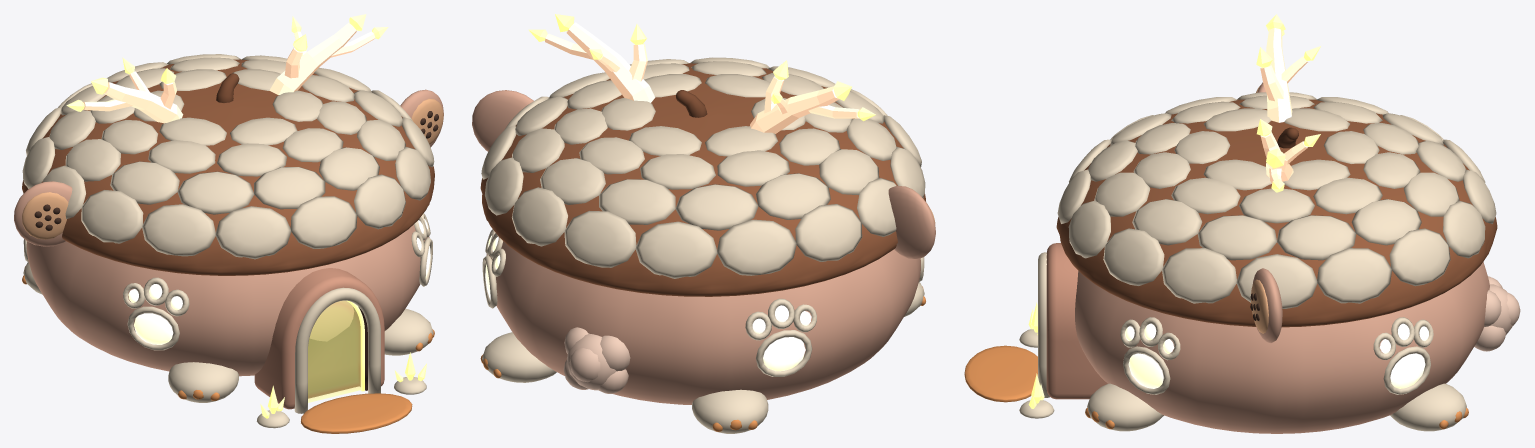
The model's file is house_04_0406.fbx.
The picture shows the model from 3 angles, left to right: view 1: azimuth 30°, elevation 25°; view 2: azimuth 150°, elevation 25°; view 3: azimuth 270°, elevation 25°; orthographic projection. The views are drawn at different scales.
Visible parts, largest first — view 1: House_AcornCap_Scales, House_Body, House_AcornCap, House_Entrance, House_CrystalAntlers, House_GlowMembrane, House_Paws, House_EntranceStep, House_DoorRim, House_PawWindows_Rim, House_EarVent_Inner, House_EarVent_Shell (+7 smaller); view 2: House_AcornCap_Scales, House_Body, House_AcornCap, House_CrystalAntlers, House_Paws, House_EarVent_Shell, House_Tail, House_PawWindows_Rim, House_PawWindows_Glow, House_AntlerGlowTips, House_CapStem; view 3: House_AcornCap_Scales, House_Body, House_AcornCap, House_Entrance, House_Paws, House_PawWindows_Rim, House_EntranceStep, House_CrystalAntlers, House_PawWindows_Glow, House_Tail, House_AntlerGlowTips, House_DoorRim (+3 smaller).
Boxes of the visible parts, left/top/right/bottom form: House_AcornCap_Scales: left=22, top=54, right=434, bottom=259; House_Body: left=26, top=224, right=429, bottom=376; House_AcornCap: left=22, top=59, right=434, bottom=275; House_Entrance: left=254, top=268, right=384, bottom=409; House_CrystalAntlers: left=83, top=22, right=375, bottom=123; House_GlowMembrane: left=308, top=300, right=360, bottom=402; House_Paws: left=23, top=262, right=433, bottom=402; House_EntranceStep: left=301, top=393, right=412, bottom=433; House_DoorRim: left=294, top=287, right=380, bottom=413; House_PawWindows_Rim: left=23, top=213, right=432, bottom=350; House_EarVent_Inner: left=22, top=98, right=443, bottom=239; House_EarVent_Shell: left=14, top=89, right=443, bottom=246; House_AcornCap_Scales: left=481, top=57, right=925, bottom=278; House_Body: left=486, top=241, right=920, bottom=404; House_AcornCap: left=480, top=63, right=925, bottom=296; House_CrystalAntlers: left=545, top=22, right=859, bottom=133; House_Paws: left=482, top=282, right=924, bottom=433; House_EarVent_Shell: left=472, top=90, right=935, bottom=259; House_Tail: left=563, top=327, right=630, bottom=393; House_PawWindows_Rim: left=482, top=229, right=924, bottom=376; House_PawWindows_Glow: left=485, top=235, right=811, bottom=371; House_AntlerGlowTips: left=528, top=14, right=875, bottom=121; House_CapStem: left=676, top=90, right=707, bottom=117; House_AcornCap_Scales: left=1057, top=92, right=1496, bottom=308; House_Body: left=1075, top=262, right=1489, bottom=433; House_AcornCap: left=1056, top=99, right=1497, bottom=327; House_Entrance: left=1046, top=243, right=1107, bottom=399; House_Paws: left=1087, top=383, right=1466, bottom=431; House_PawWindows_Rim: left=1120, top=317, right=1433, bottom=394; House_EntranceStep: left=964, top=345, right=1037, bottom=402; House_CrystalAntlers: left=1260, top=28, right=1307, bottom=183; House_PawWindows_Glow: left=1125, top=323, right=1428, bottom=388; House_Tail: left=1474, top=276, right=1520, bottom=351; House_AntlerGlowTips: left=1256, top=14, right=1320, bottom=192; House_DoorRim: left=1038, top=252, right=1049, bottom=397.
Size of the model in its own units: 6.38 by 3.94 by 6.76.
